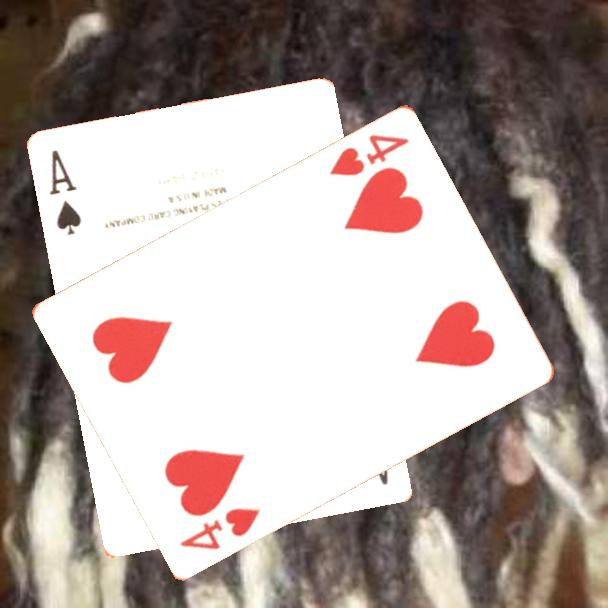h04: (325, 130, 413, 179), (176, 503, 264, 552)
s01: (47, 147, 85, 239)
